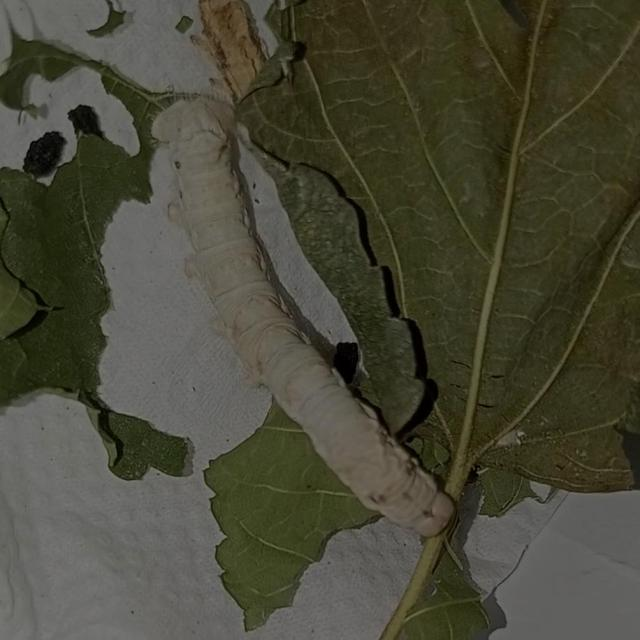Healthy: (123, 70, 511, 557)
